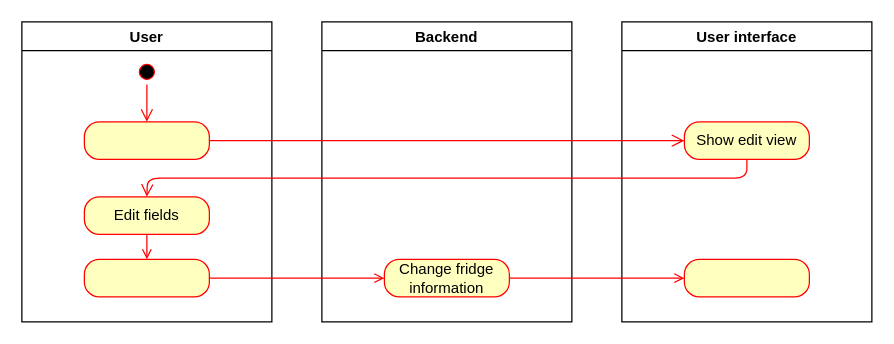
This 894x344 diagram has some shape labels left out. Each missing label, with the centre of its shape:
Clicks on Edit Fridge: point (146, 140)
Show success: point (746, 277)
Submits change: point (146, 277)
